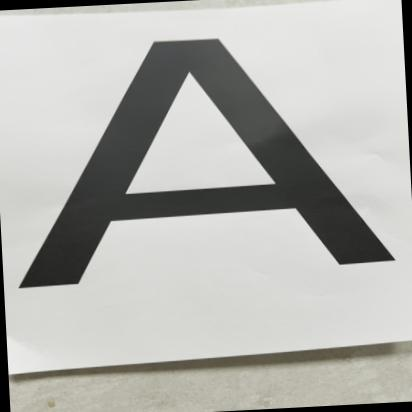seat: (12, 13, 412, 324), (8, 11, 412, 313)
